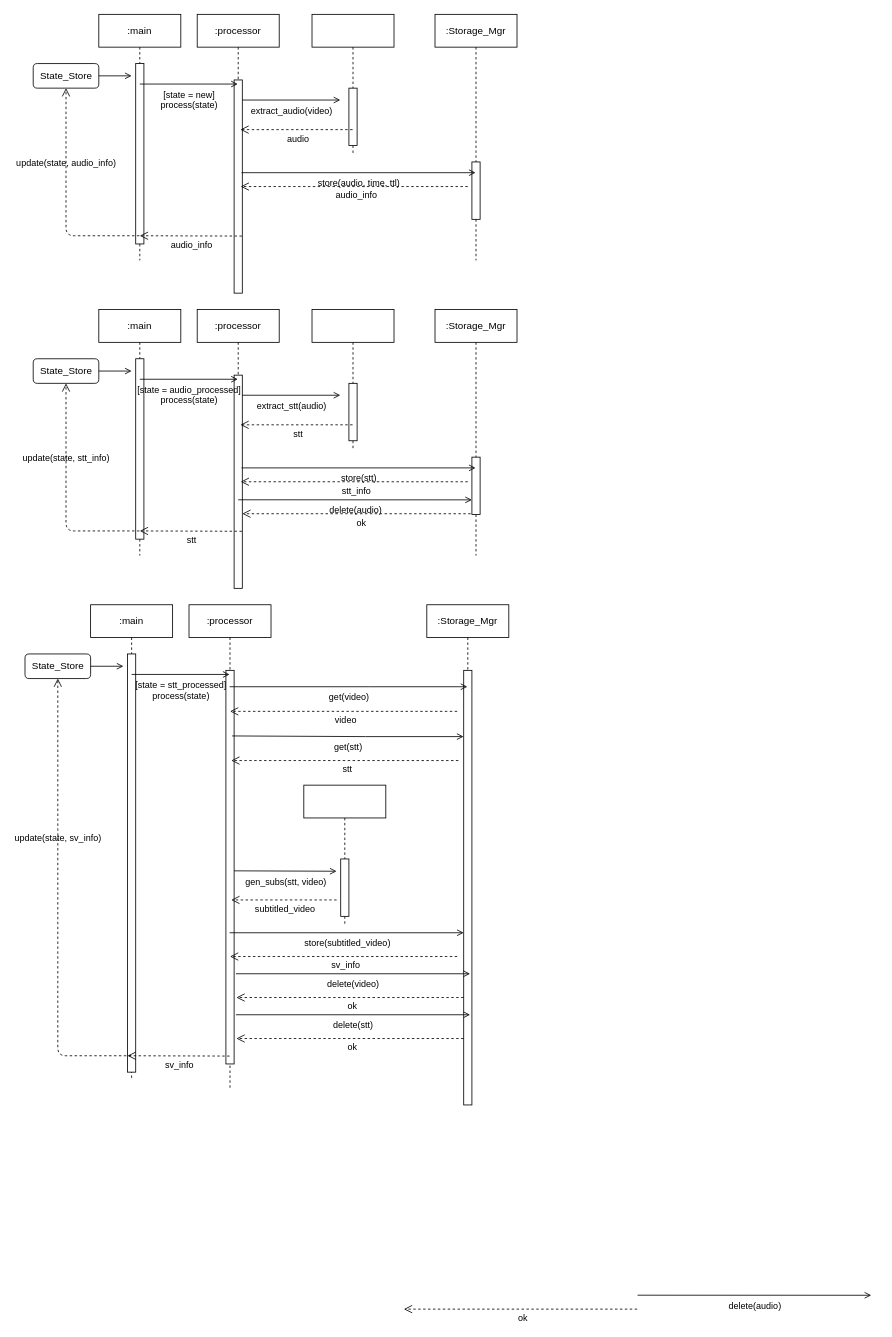
Some shapes in this 892 by 1337 pixel diagram are drawn without their labels. The centre of each missing label's shape, as x and y in pixels:
":Audio_Extractor" belongs at [352,84].
":STT_Extractor" belongs at [352,379].
":Subtitle_Gen" belongs at [344,854].
